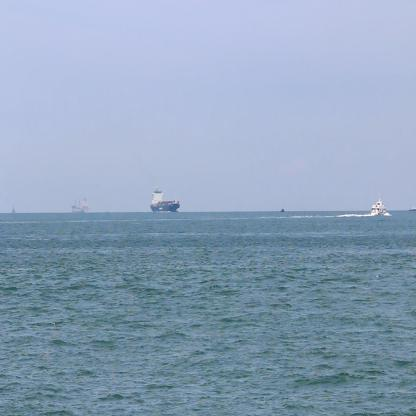Container Ship: (150, 181, 181, 215), (72, 193, 92, 216), (408, 204, 416, 213)
